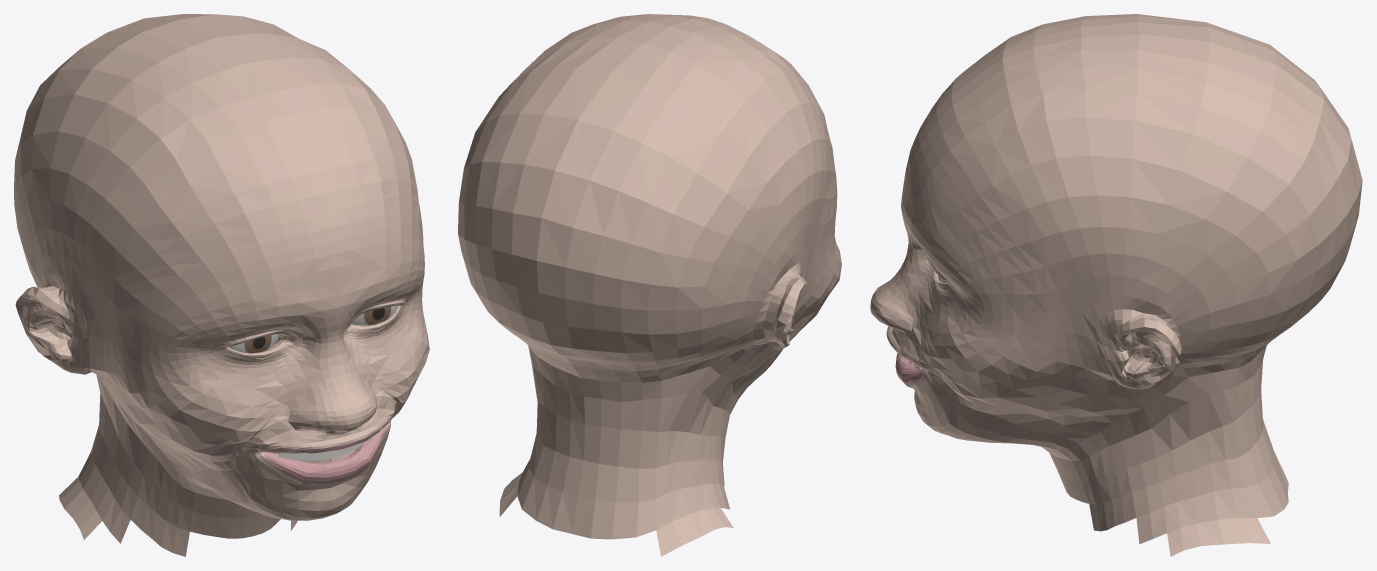
Rendered from karma_face_MH_smile_AC.glb.
3 views of the same model, side by side, from view 1: azimuth 30°, elevation 25°; view 2: azimuth 150°, elevation 25°; view 3: azimuth 270°, elevation 25° (orthographic). The views are drawn at different scales.
Visible parts, largest first — view 1: head; view 2: head; view 3: head.
Boxes of the visible parts, box(x1,y1,x2,y2) form: head: box(14, 14, 429, 556); head: box(458, 14, 841, 556); head: box(870, 14, 1362, 556).
Size of the model in its own units: 3.03 by 3.91 by 3.7.
